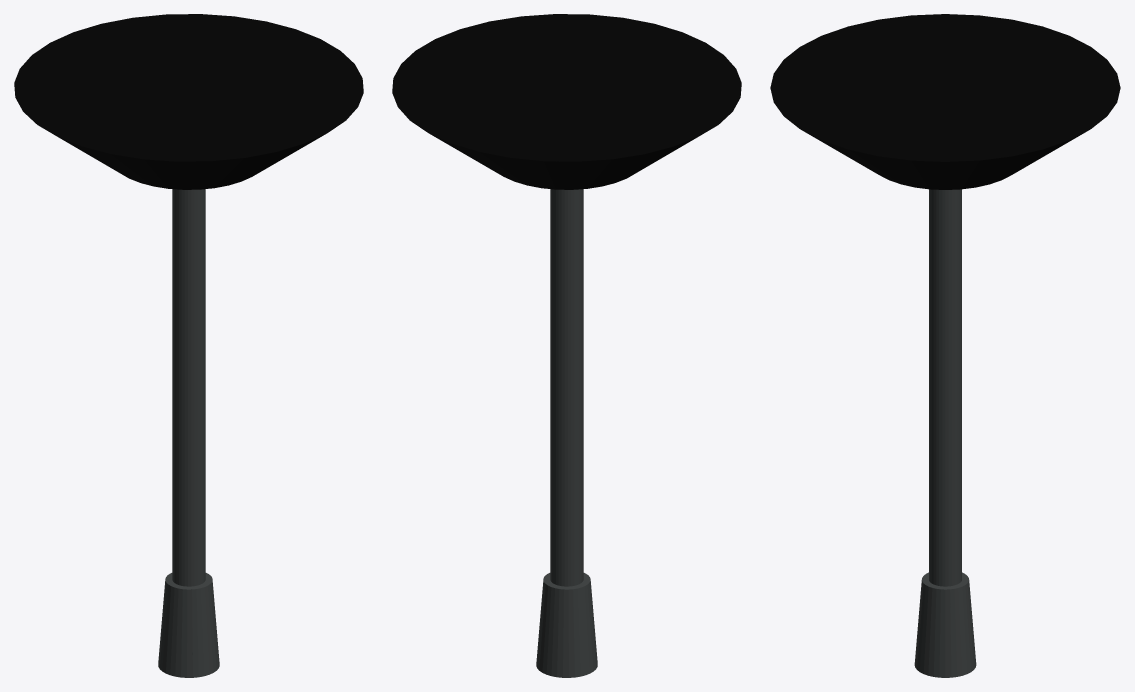
File: LampPost.gltf
3 views of the same model, side by side, from view 1: azimuth 30°, elevation 25°; view 2: azimuth 150°, elevation 25°; view 3: azimuth 270°, elevation 25° (orthographic).
Visible parts, largest first — view 1: Glass; view 2: Glass; view 3: Glass.
Part boxes in pixels (left/top/right/bottom): Glass: left=14, top=14, right=363, bottom=677; Glass: left=392, top=14, right=741, bottom=677; Glass: left=770, top=14, right=1120, bottom=677.
Bounding box in the file's own units: 7.94 × 14.43 × 7.94.
Materials: 1 (1 with a texture image).
